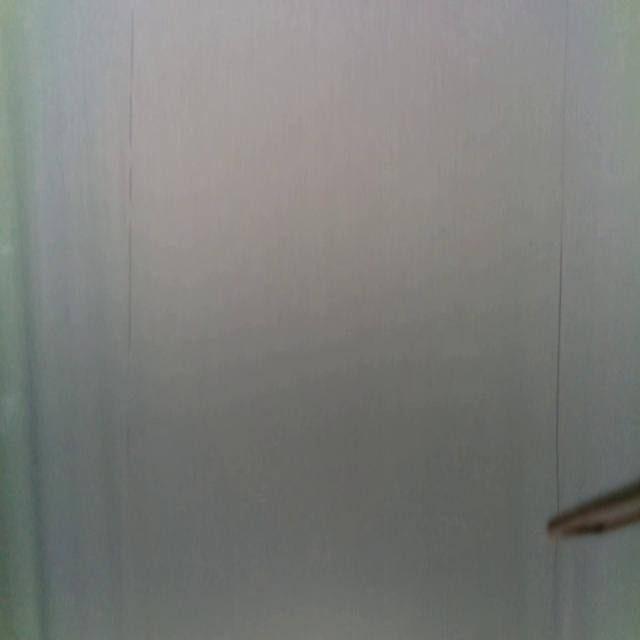crease: (555, 0, 570, 514), (126, 10, 136, 352)
